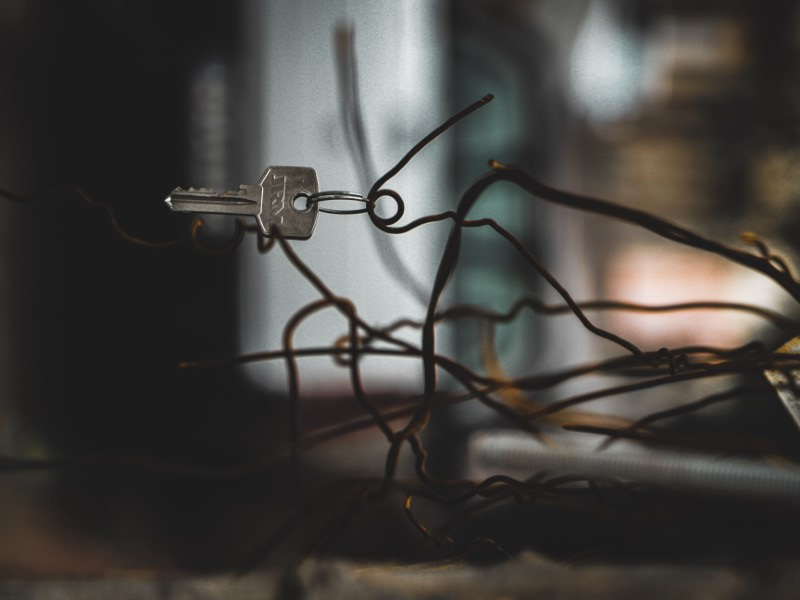key: (162, 150, 319, 239)
